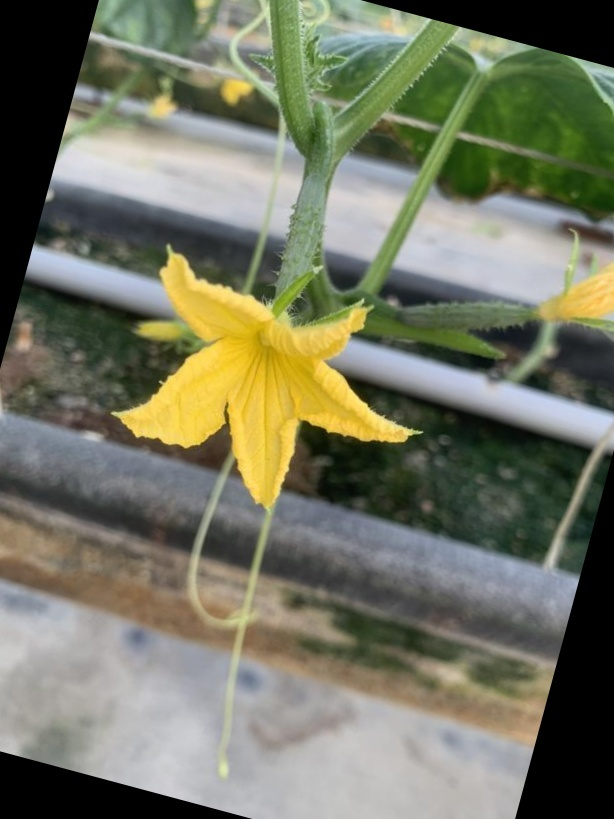flowering: (115, 169, 433, 508)
